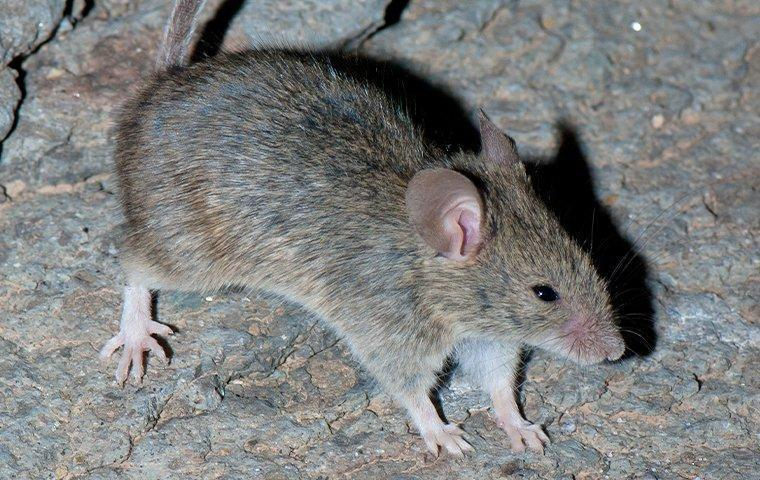rat: (103, 0, 629, 455)
